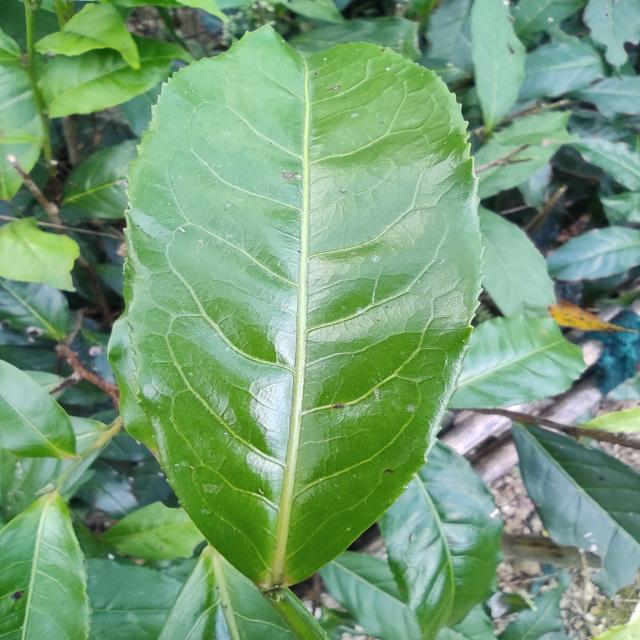Category D(7+ days, Not for Tea): (116, 13, 488, 598)
